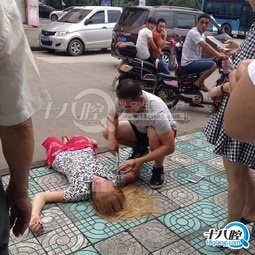falling: (26, 124, 142, 237)
